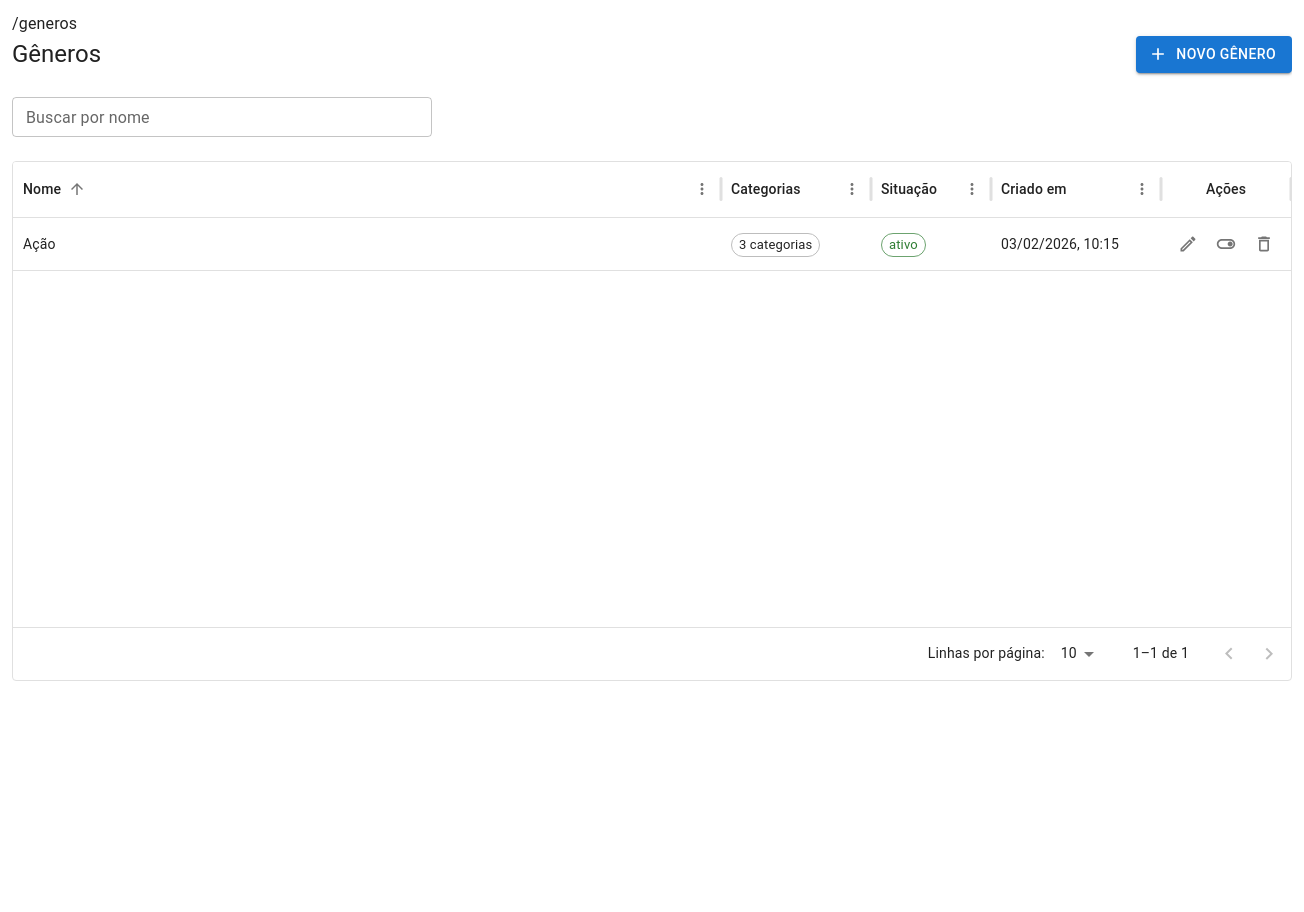
Scenario: GenreList › givenGeneroAtivo_whenClicaEmDesativar_thenChamaDeactivate
expect the text "Ação" is shown: met, box [23, 236, 56, 252]
Click the menu item named "Desativar". click: [1226, 244]
box: [1211, 229, 1241, 259]
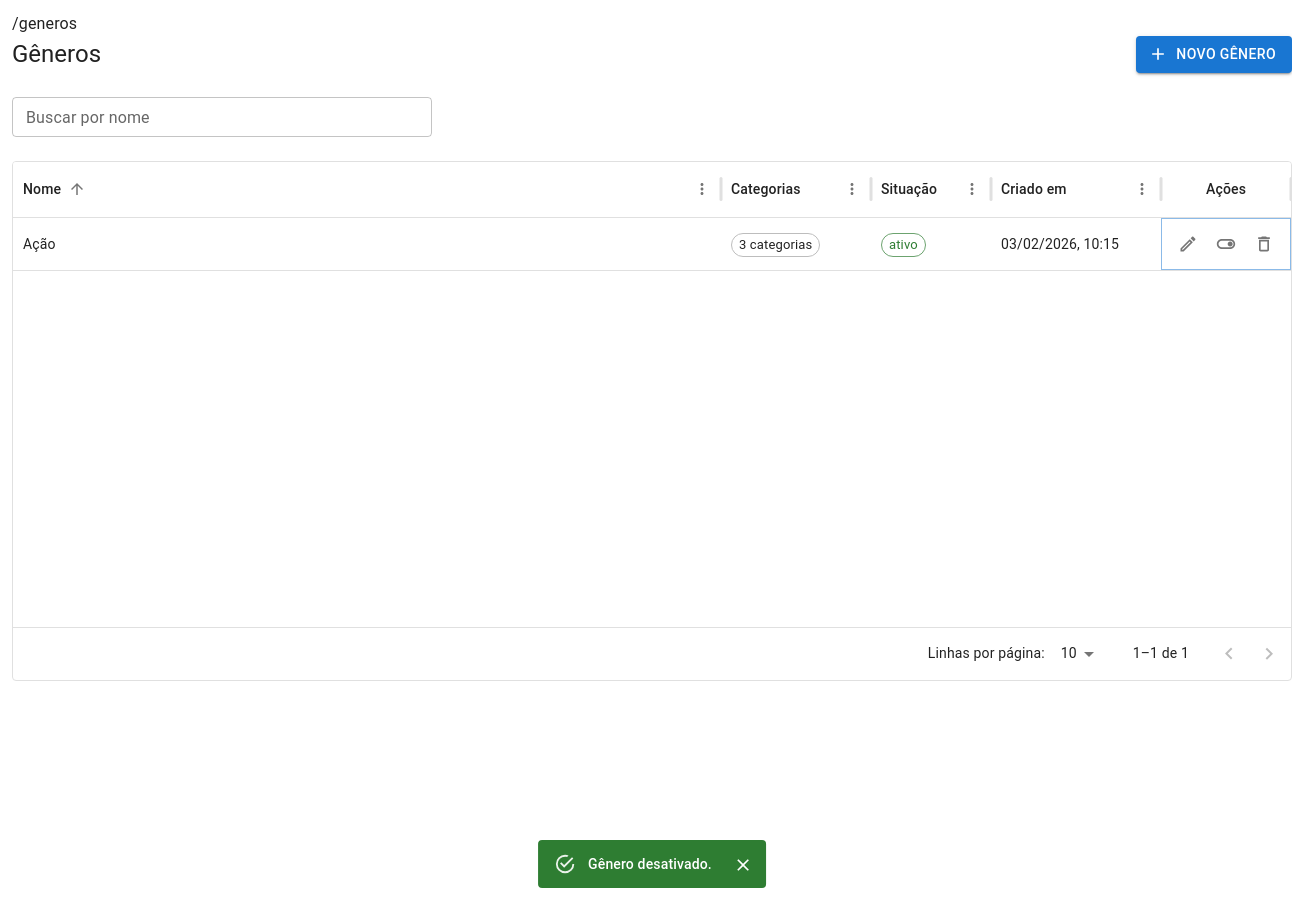
expect the text "Gênero desativado." is shown: met, box [588, 856, 712, 872]
